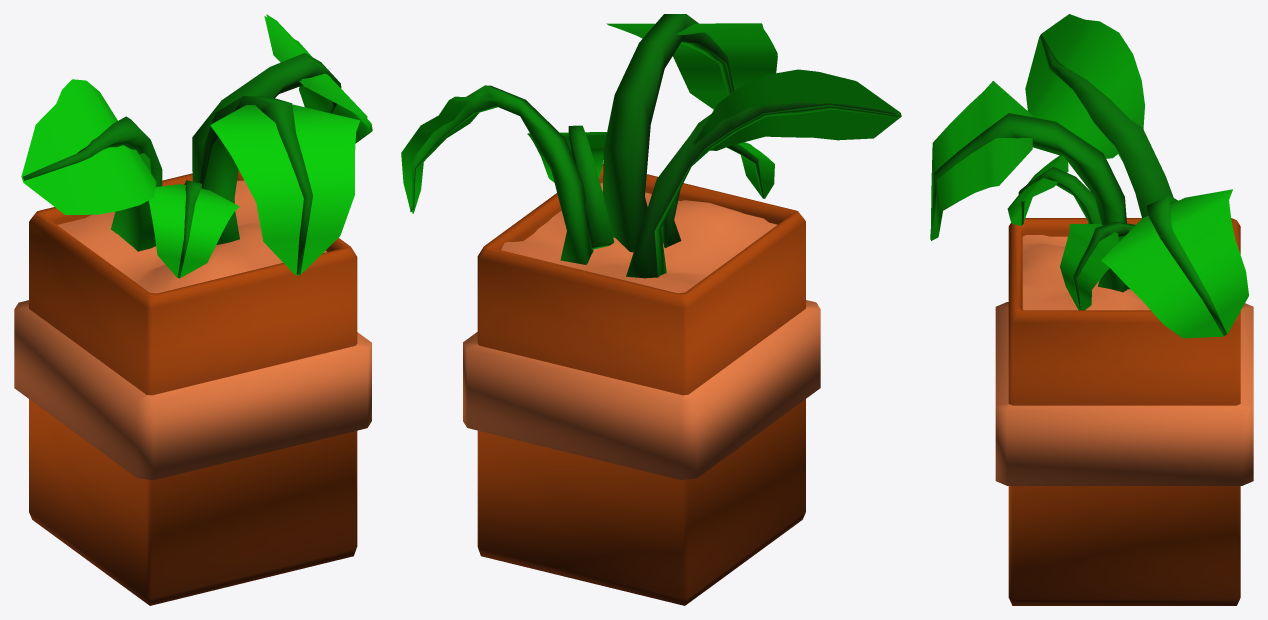
File: CollectioPlantaGranden_14.fbx
3 renders of one model, left to right at view 1: azimuth 30°, elevation 25°; view 2: azimuth 150°, elevation 25°; view 3: azimuth 270°, elevation 25°, orthographic. The views are drawn at different scales.
Parts seen in each view (by area): view 1: PlantaGrande; view 2: PlantaGrande; view 3: PlantaGrande.
Part boxes in pixels (x1,y1,x2,y2): PlantaGrande: (14,14,372,605); PlantaGrande: (401,14,901,605); PlantaGrande: (930,14,1253,605).
Bounding box in the file's own units: 92.59 × 105 × 65.56.
1 material, 1 textured.
